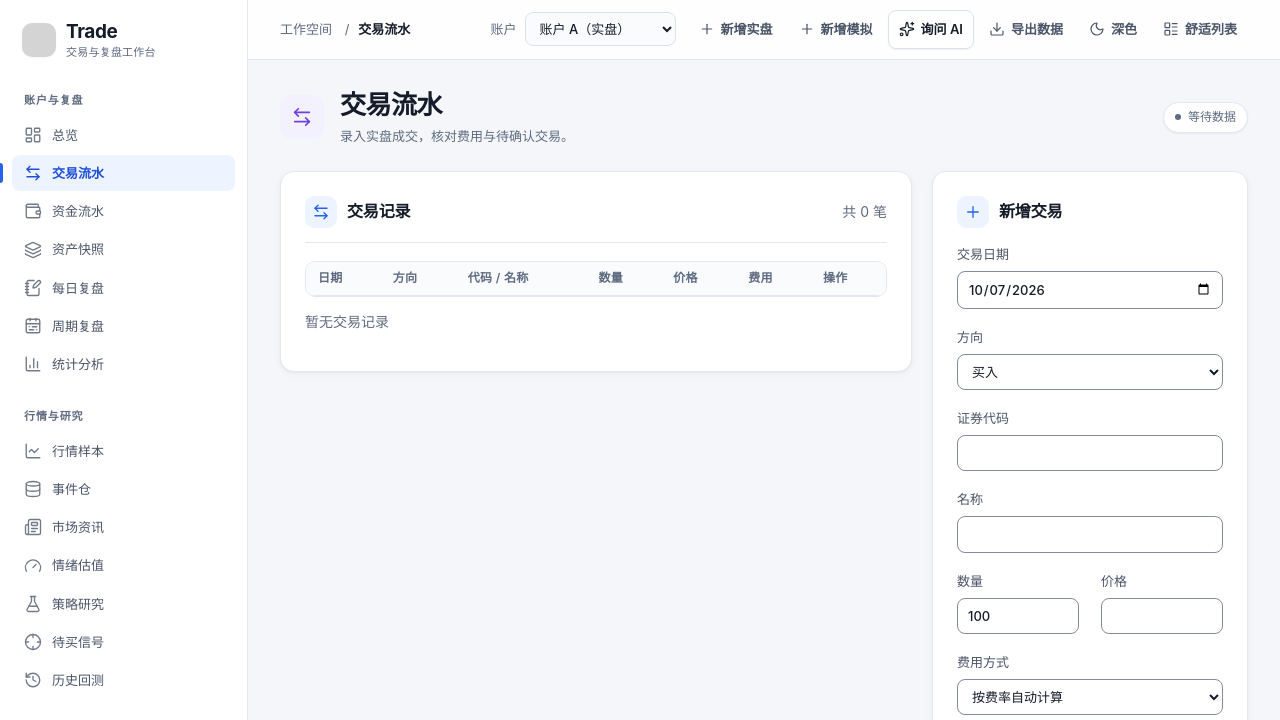
releases the submission lock after failure so a corrected write can be saved
Type "600000" into the field labelled "证券代码" at [1090, 453], box [957,435,1223,471]
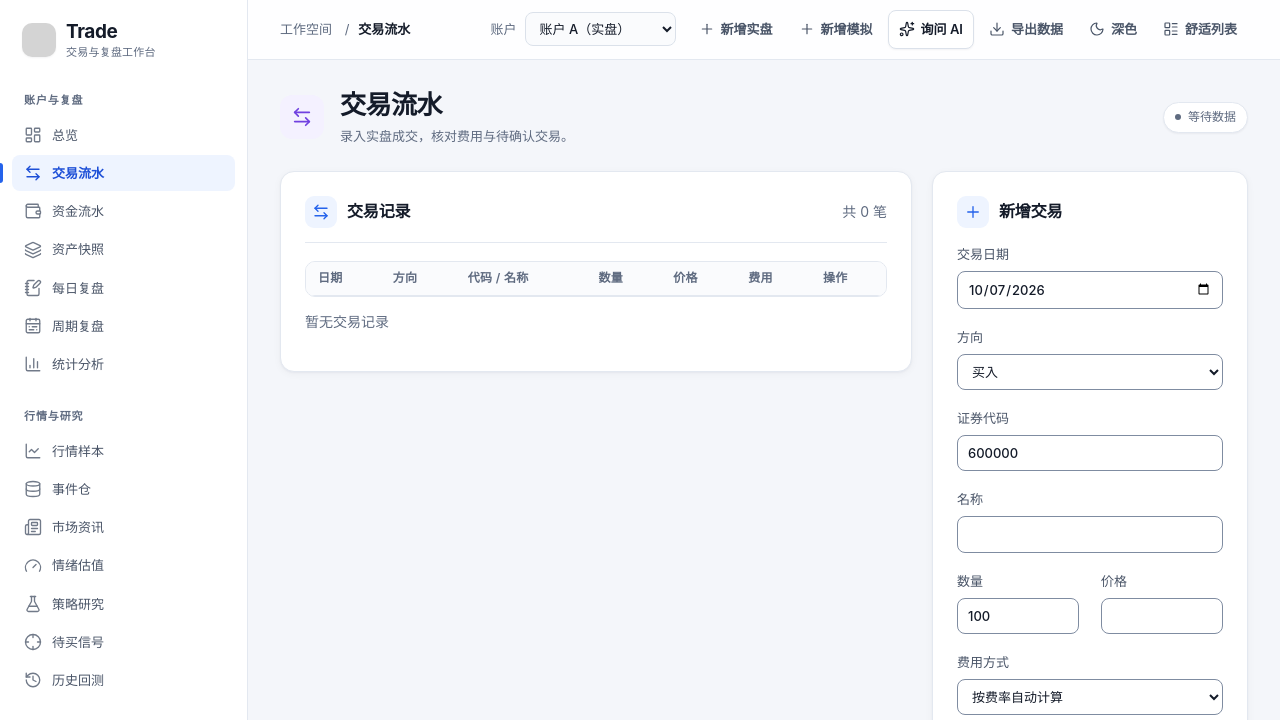
Type "10" into the number field labelled "价格" at [1162, 616], box [1101,598,1223,634]
(page scrolled)
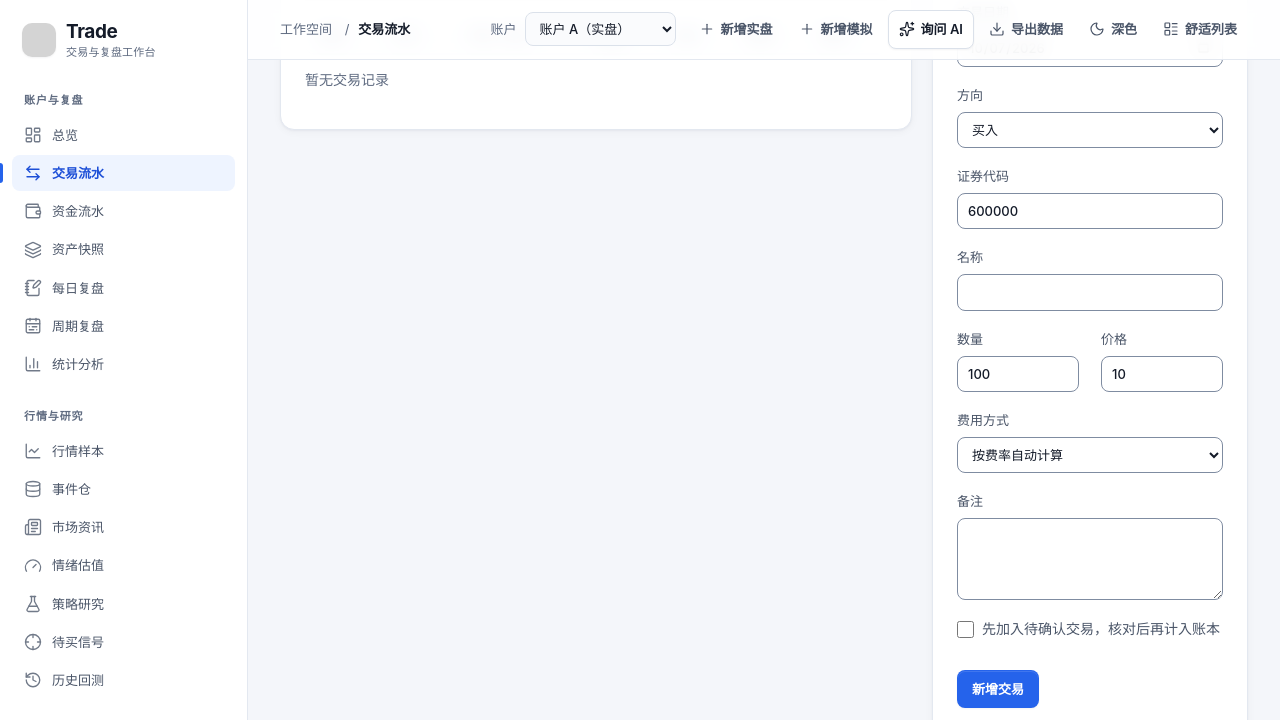
Submit the form named "新增交易", box [957,2,1223,719]
Check: the button "新增交易" is enabled, box [957,670,1039,708]
Submit the form named "新增交易", box [957,2,1223,719]
(page scrolled)
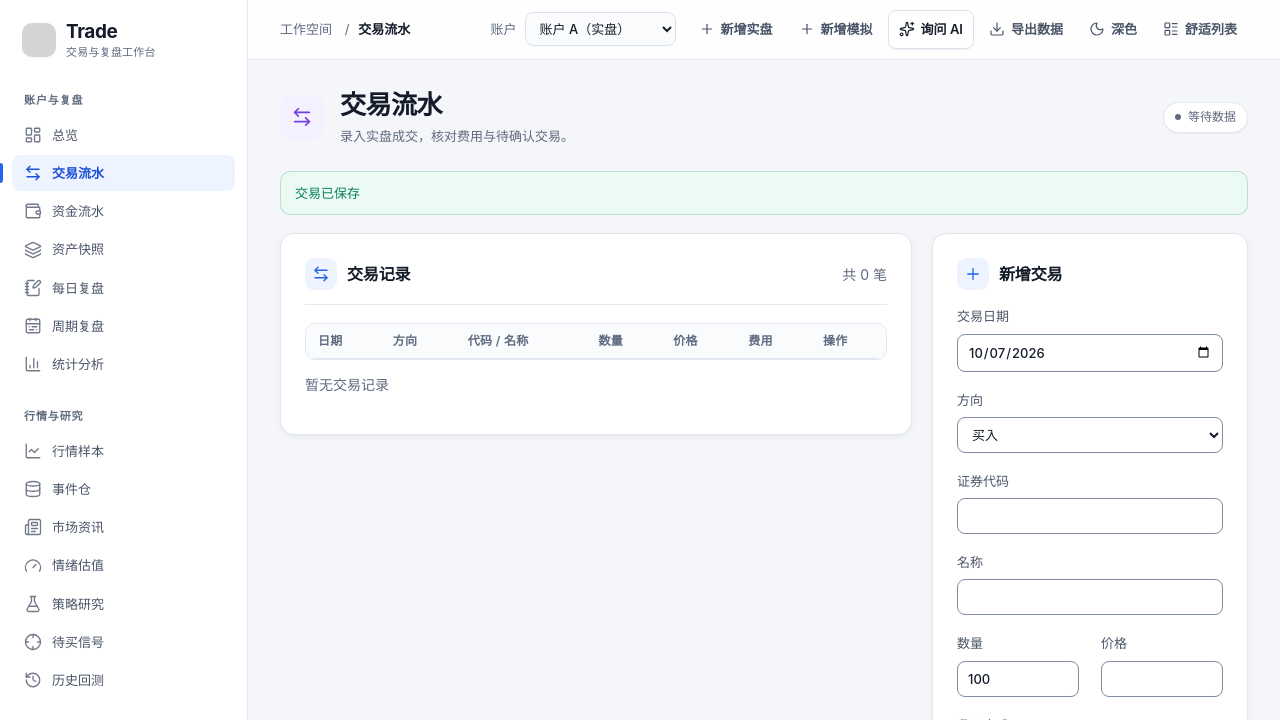
Check: the text "交易已保存" is shown, box [280,171,1248,215]
